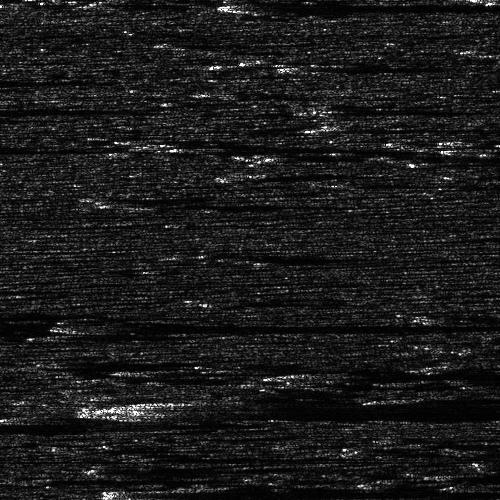object: (63, 400, 240, 417), (245, 149, 298, 160), (213, 0, 254, 11), (261, 64, 324, 69), (294, 124, 357, 129), (240, 172, 303, 177), (137, 143, 200, 148), (457, 145, 498, 152), (299, 108, 352, 113)
shadow: (152, 400, 500, 417), (234, 0, 500, 11), (272, 149, 458, 160), (293, 64, 485, 69), (168, 143, 350, 148), (0, 105, 129, 112), (325, 124, 500, 129), (325, 108, 500, 113), (272, 172, 397, 177), (0, 79, 85, 82), (478, 145, 500, 152)
